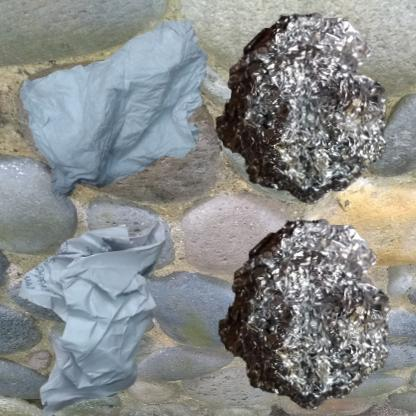aluminio: (213, 213, 396, 416), (213, 10, 389, 206)
papel: (10, 10, 259, 222), (10, 213, 191, 416)
